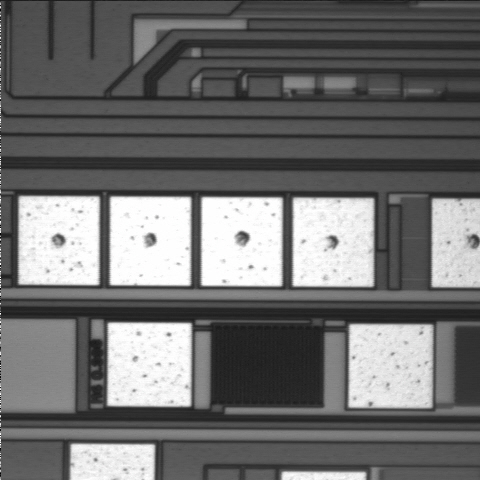pad: (201, 197, 283, 286), (19, 196, 100, 285), (110, 197, 191, 286), (293, 198, 374, 287), (107, 323, 191, 407), (349, 324, 433, 408)
